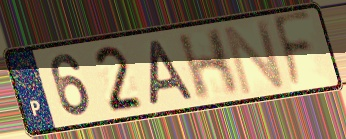2: (93, 43, 147, 114)
6: (49, 52, 93, 119)
A: (147, 37, 198, 109)
F: (270, 7, 315, 94)
H: (175, 26, 242, 104)
N: (221, 17, 289, 98)
